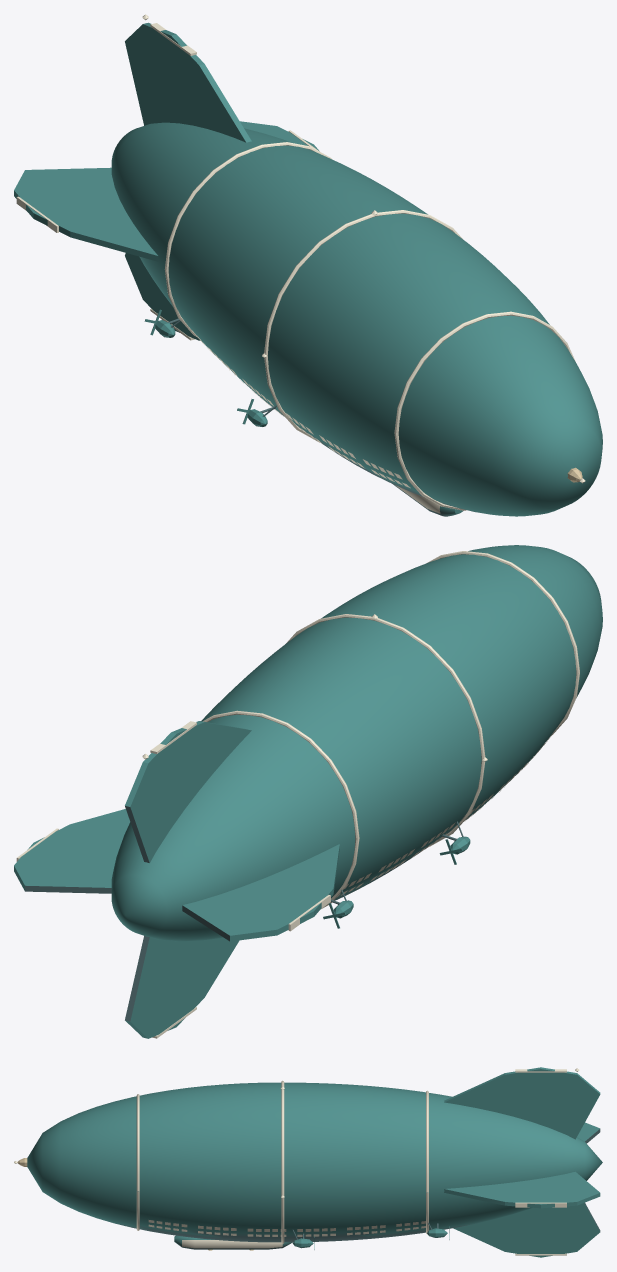
Rendered from KC32__AD_Ext_Airship_Red.glb.
3 views of the same model, one above another, from view 1: azimuth 30°, elevation 25°; view 2: azimuth 150°, elevation 25°; view 3: azimuth 270°, elevation 25° (orthographic). The views are drawn at different scales.
Visible parts, largest first — view 1: KC32_CORPS__AD_Ext_Airship_Red, KC32_LUMIERE__AD_Ext_Airship_Red; view 2: KC32_CORPS__AD_Ext_Airship_Red, KC32_LUMIERE__AD_Ext_Airship_Red; view 3: KC32_CORPS__AD_Ext_Airship_Red, KC32_LUMIERE__AD_Ext_Airship_Red.
Boxes of the visible parts, left/top/right/bottom form: KC32_CORPS__AD_Ext_Airship_Red: left=14, top=22, right=602, bottom=516; KC32_LUMIERE__AD_Ext_Airship_Red: left=16, top=14, right=585, bottom=513; KC32_CORPS__AD_Ext_Airship_Red: left=14, top=545, right=602, bottom=1038; KC32_LUMIERE__AD_Ext_Airship_Red: left=16, top=551, right=579, bottom=1038; KC32_CORPS__AD_Ext_Airship_Red: left=27, top=1067, right=602, bottom=1257; KC32_LUMIERE__AD_Ext_Airship_Red: left=14, top=1068, right=579, bottom=1255.
Bounding box in the file's own units: 40.3 × 40.32 × 114.
